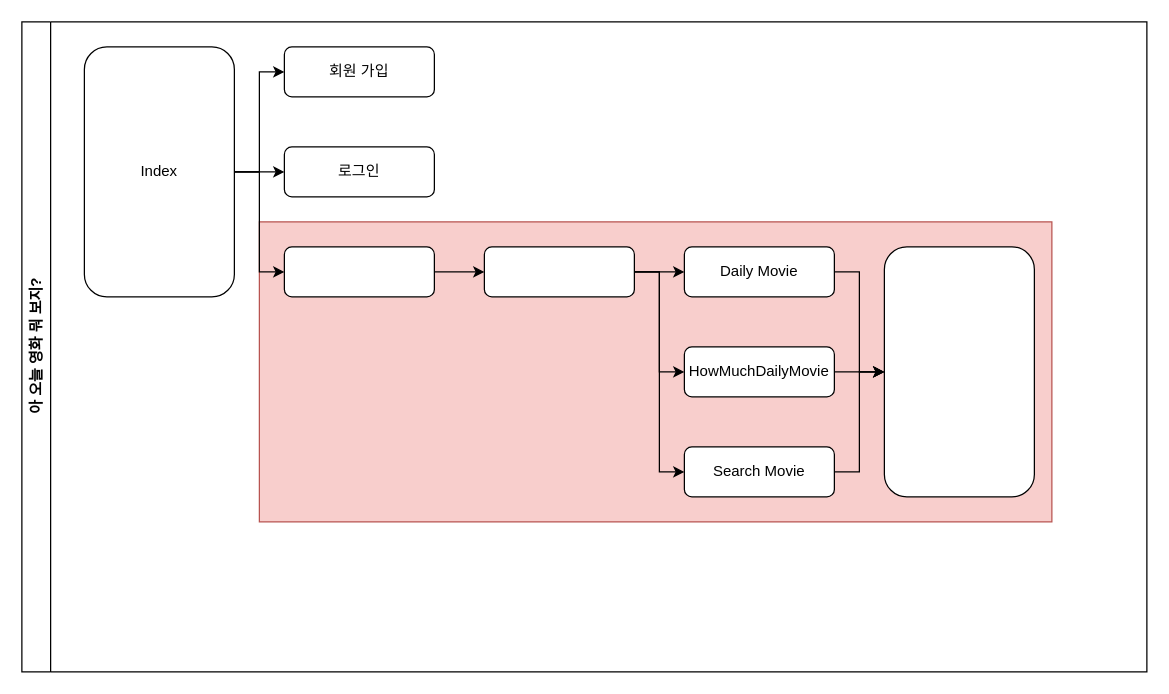
Some shapes in this 1169 by 694 pixel diagram are drawn without their labels. Each missing label, with the centre of its shape:
"Main Board" goes at [358,271].
"Movie" goes at [558,271].
"Movie Detail" goes at [958,371].
